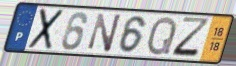6: (118, 14, 149, 54), (60, 11, 88, 52)
N: (86, 12, 124, 54)
Q: (145, 15, 179, 57)
X: (25, 7, 66, 52)
Z: (169, 16, 212, 60)
